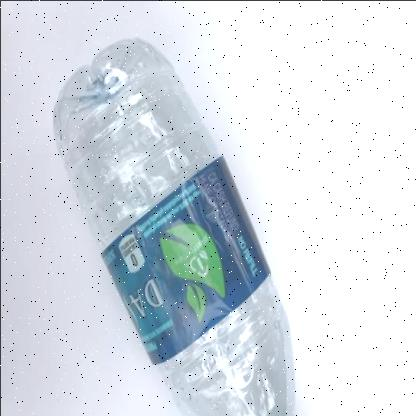Plastic Bottle: (53, 38, 291, 416)
